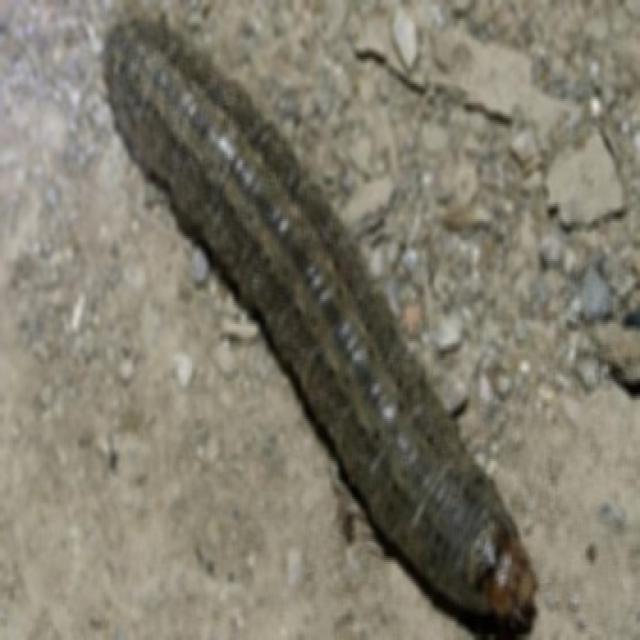black cutworm: (105, 21, 558, 632)
